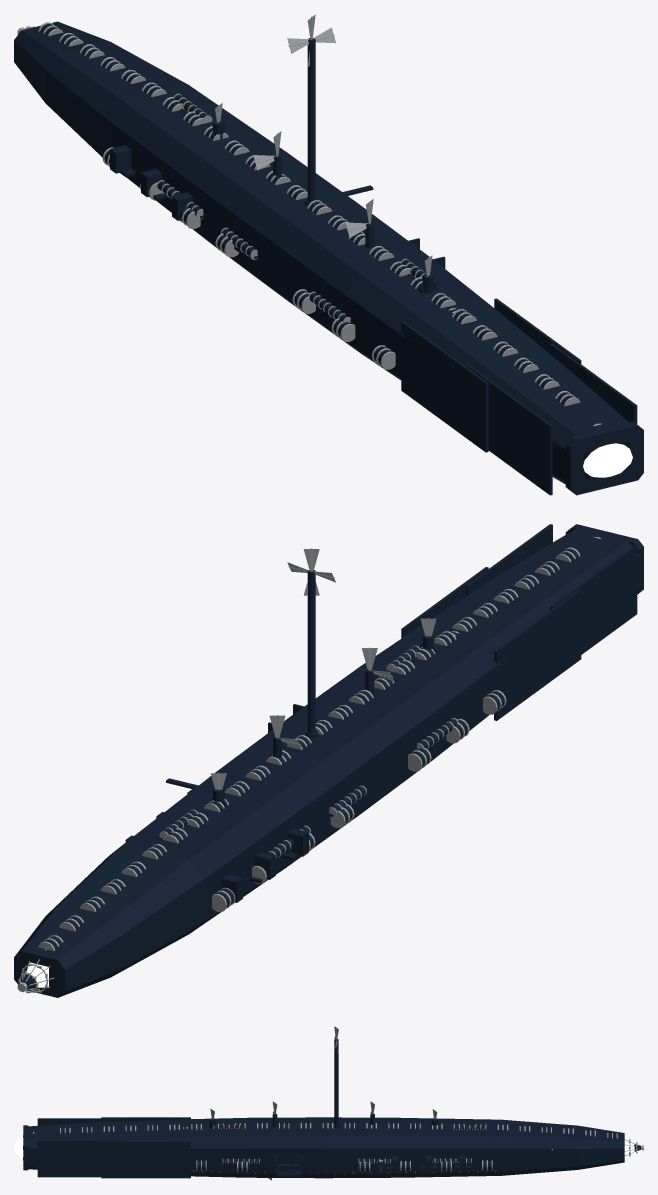
3 renders of one model, top to bottom at view 1: azimuth 30°, elevation 25°; view 2: azimuth 150°, elevation 25°; view 3: azimuth 270°, elevation 25°, orthographic. The views are drawn at different scales.
Visible parts, largest first — view 1: RIMWARD_HULL, RIMWARD_ENGINE_GLOW; view 2: RIMWARD_HULL; view 3: RIMWARD_HULL.
Part boxes in pixels (bbox=[...]): RIMWARD_HULL: bbox=[14, 14, 643, 495]; RIMWARD_ENGINE_GLOW: bbox=[583, 443, 632, 477]; RIMWARD_HULL: bbox=[14, 524, 643, 997]; RIMWARD_HULL: bbox=[23, 1026, 643, 1180].
Size of the model in its own units: 13.73 by 22.62 by 84.34.
